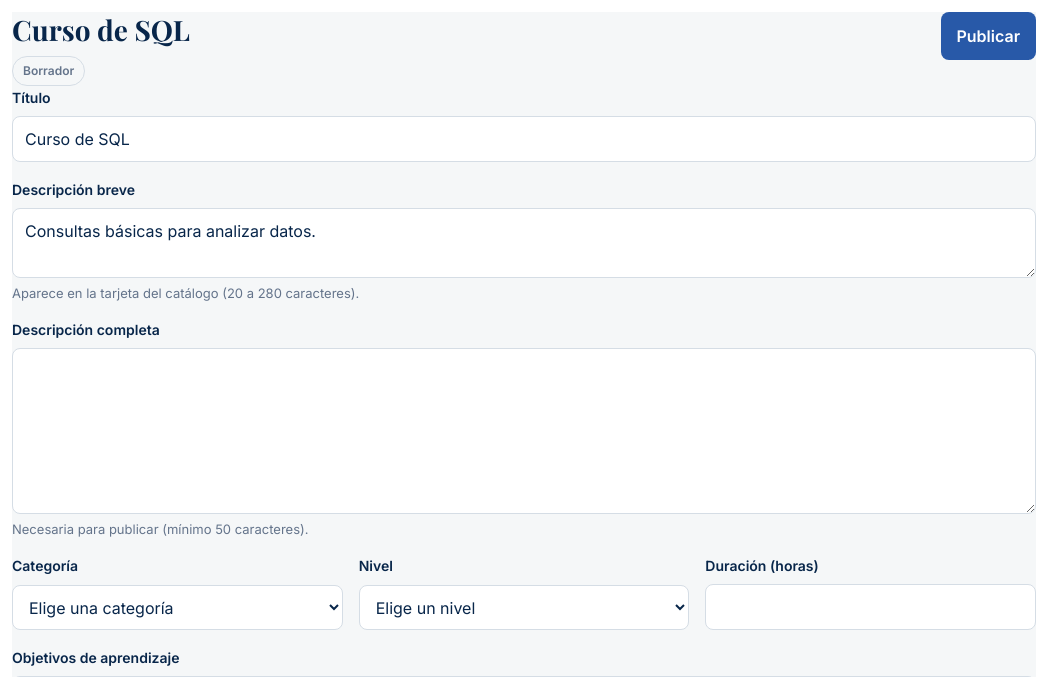
Test case: CourseEditor › publica y ofrece retirar el curso
Click the button "Publicar" at x=988, y=36, box [940,12,1036,60]
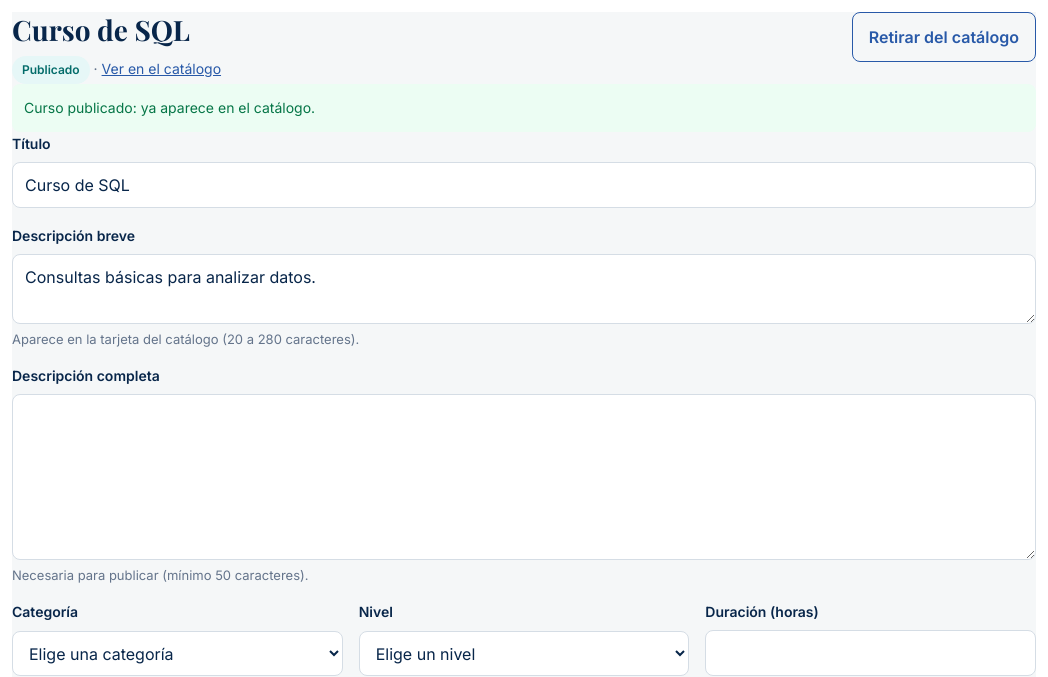
Check: the message shows "ya aparece en el catálogo", box [24,99,315,116]
Check: the button "Retirar del catálogo" is shown, box [852,12,1036,62]
